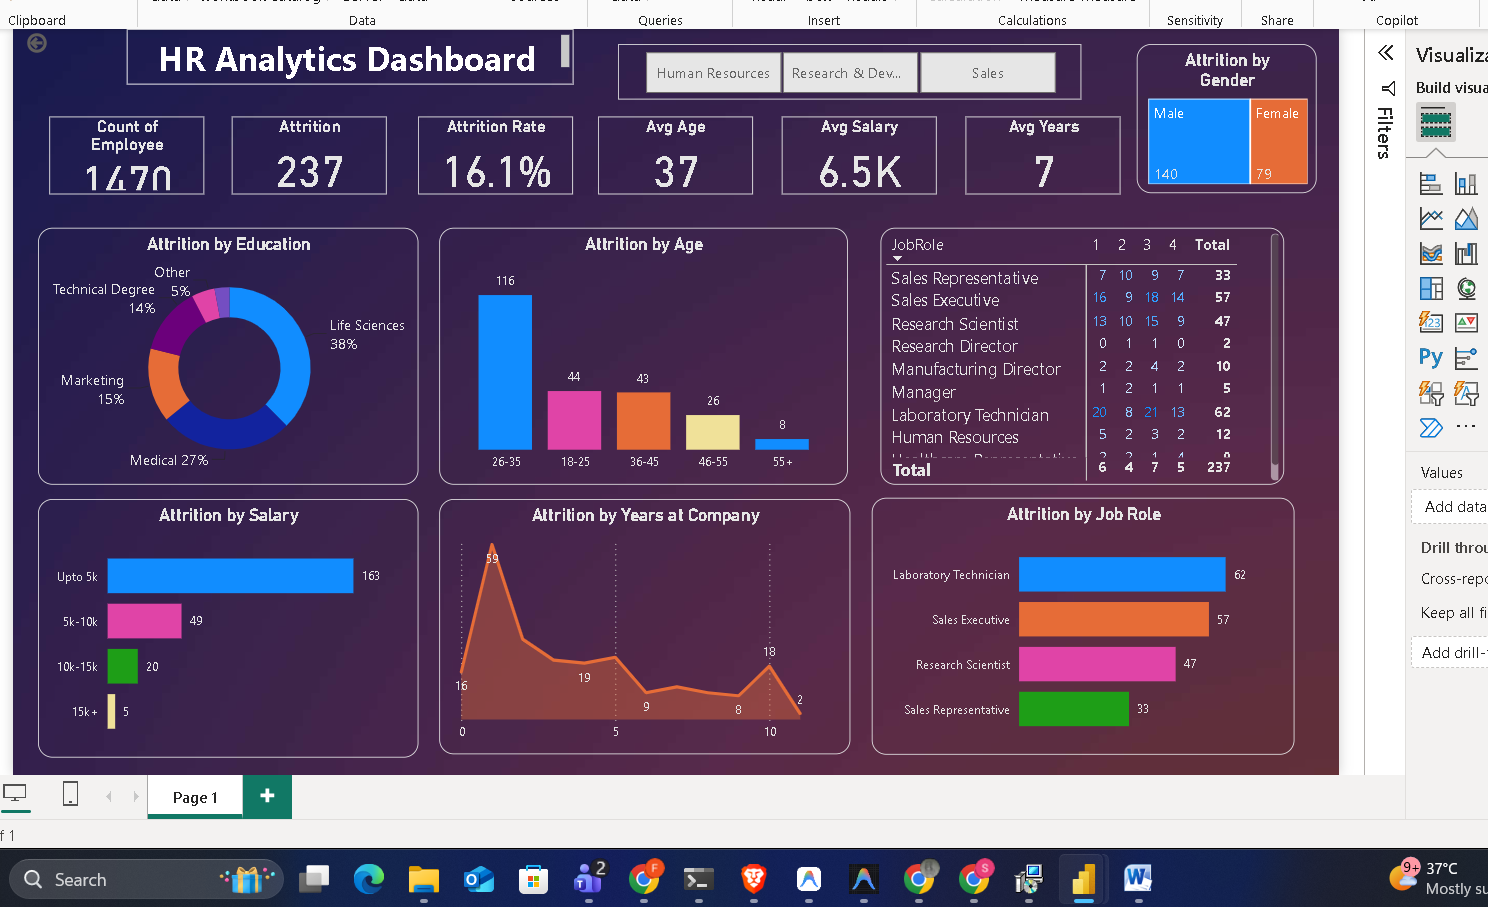

The page's visual inventory and layout, read from the dashboard file:
{"tool":"powerbi","page":{"name":"Page 1","canvas":[1280,720],"ordinal":0},"visuals":[{"type":"card","title":"Count of Employee","fields":{"Values":["CountNonNull(HR_Analytics.EmpID)"]},"box":[35.3,84,149.5,75.6],"z":0},{"type":"card","title":"Attrition","fields":{"Values":["Sum(HR_Analytics.AttritionCount)"]},"box":[211.7,84,149.5,75.6],"z":1000},{"type":"card","title":"Attrition Rate","fields":{"Values":["HR_Analytics.AttritionRate"]},"box":[391.4,84,149.5,75.6],"z":2000},{"type":"card","title":"Avg Age","fields":{"Values":["Avg(HR_Analytics.Age)"]},"box":[564.4,84,149.5,75.6],"z":3000},{"type":"actionButton","box":[10.1,0,100.8,26.9],"z":4000},{"type":"card","title":"Avg Salary","fields":{"Values":["Avg(HR_Analytics.MonthlyIncome)"]},"box":[742.5,84,149.5,75.6],"z":5000},{"type":"card","title":"Avg Years","fields":{"Values":["Avg(HR_Analytics.YearsAtCompany)"]},"box":[918.8,84,149.5,75.6],"z":6000},{"type":"donutChart","title":"Attrition by Education","fields":{"Y":["Sum(HR_Analytics.AttritionCount)"],"Category":["HR_Analytics.EducationField","HR_Analytics.YearsAtCompany"]},"box":[24.1,191.3,367.1,248],"z":7000},{"type":"columnChart","title":"Attrition by Age","fields":{"Category":["HR_Analytics.AgeGroup"],"Y":["Sum(HR_Analytics.AttritionCount)"]},"box":[411,191.3,394,248],"z":8000},{"type":"pivotTable","fields":{"Rows":["HR_Analytics.JobRole"],"Columns":["HR_Analytics.JobSatisfaction"],"Values":["Sum(HR_Analytics.AttritionCount)"]},"box":[837.6,191.3,389.8,248],"z":9000},{"type":"barChart","title":"Attrition by Salary","fields":{"Category":["HR_Analytics.SalarySlab"],"Y":["Sum(HR_Analytics.AttritionCount)"]},"box":[24.1,453.5,367.1,249.4],"z":10000},{"type":"barChart","title":"Attrition by Job Role","fields":{"Category":["HR_Analytics.JobRole"],"Y":["Sum(HR_Analytics.AttritionCount)"]},"box":[829.1,452.1,408.2,248],"z":11000},{"type":"areaChart","title":"Attrition by Years at Company","fields":{"Category":["HR_Analytics.YearsAtCompany"],"Y":["Sum(HR_Analytics.AttritionCount)"]},"box":[411,453.5,396.9,246.6],"z":12000},{"type":"treemap","title":"Attrition by Gender","fields":{"Group":["HR_Analytics.Gender"],"Values":["Sum(HR_Analytics.AttritionCount)"]},"box":[1085,14.1,174,144.3],"z":13000},{"type":"slicer","fields":{"Values":["HR_Analytics.Department"]},"box":[584.2,14.1,447,53.8],"z":14000},{"type":"textbox","box":[110.3,0,431.4,53.8],"z":15000}]}

Visuals, with their boxes on the page's 1280x720 design canvas (x1, y1, x2, y2). These are canvas units, not pixel positions in the 1488x907 screenshot, which may show the page scaled, cropped or inside an application window:
"Count of Employee" card: crop(35, 84, 185, 160)
"Attrition" card: crop(212, 84, 361, 160)
"Attrition Rate" card: crop(391, 84, 541, 160)
"Avg Age" card: crop(564, 84, 714, 160)
actionButton: crop(10, 0, 111, 27)
"Avg Salary" card: crop(742, 84, 892, 160)
"Avg Years" card: crop(919, 84, 1068, 160)
"Attrition by Education" donutChart: crop(24, 191, 391, 439)
"Attrition by Age" columnChart: crop(411, 191, 805, 439)
pivotTable - HR_Analytics.JobRole x HR_Analytics.JobSatisfaction: crop(838, 191, 1227, 439)
"Attrition by Salary" barChart: crop(24, 454, 391, 703)
"Attrition by Job Role" barChart: crop(829, 452, 1237, 700)
"Attrition by Years at Company" areaChart: crop(411, 454, 808, 700)
"Attrition by Gender" treemap: crop(1085, 14, 1259, 158)
slicer - HR_Analytics.Department: crop(584, 14, 1031, 68)
textbox: crop(110, 0, 542, 54)
